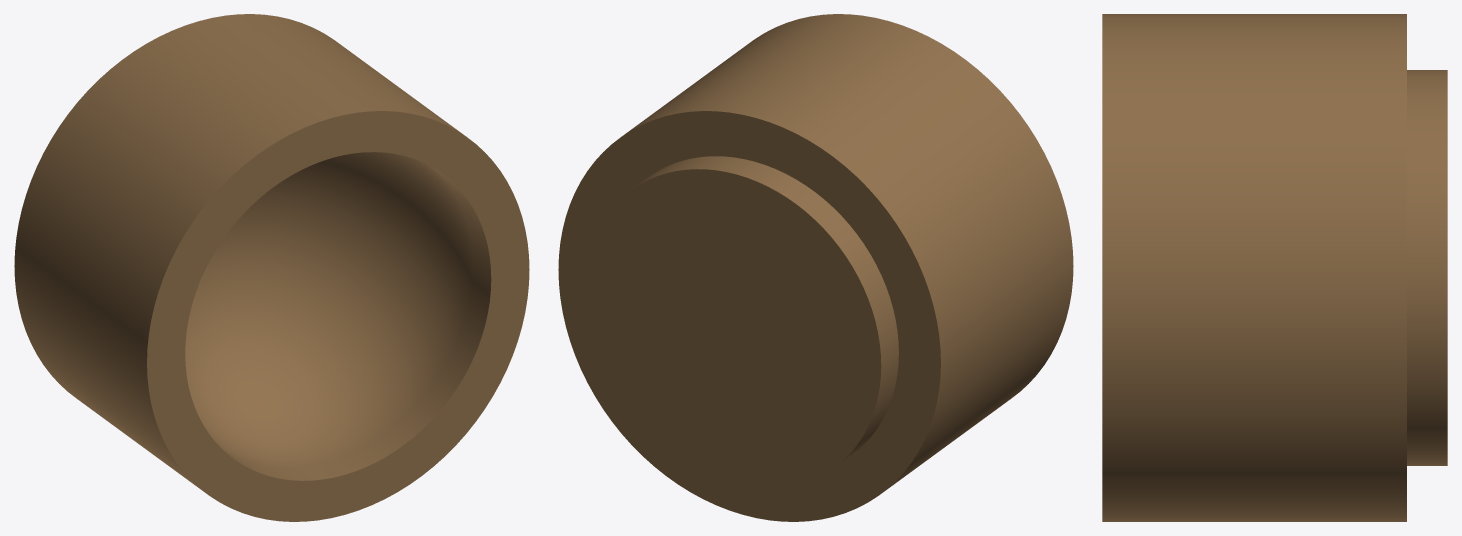
3 renders of one model, left to right at view 1: azimuth 30°, elevation 25°; view 2: azimuth 150°, elevation 25°; view 3: azimuth 270°, elevation 25°, orthographic. The views are drawn at different scales.
Parts seen in each view (by area): view 1: tube; view 2: tube; view 3: tube.
Part boxes in pixels (<box>): tube: <box>14,14,529,521</box>; tube: <box>558,14,1073,521</box>; tube: <box>1102,14,1447,521</box>.
Size of the model in its own units: 0.05 by 0.05 by 0.034.
